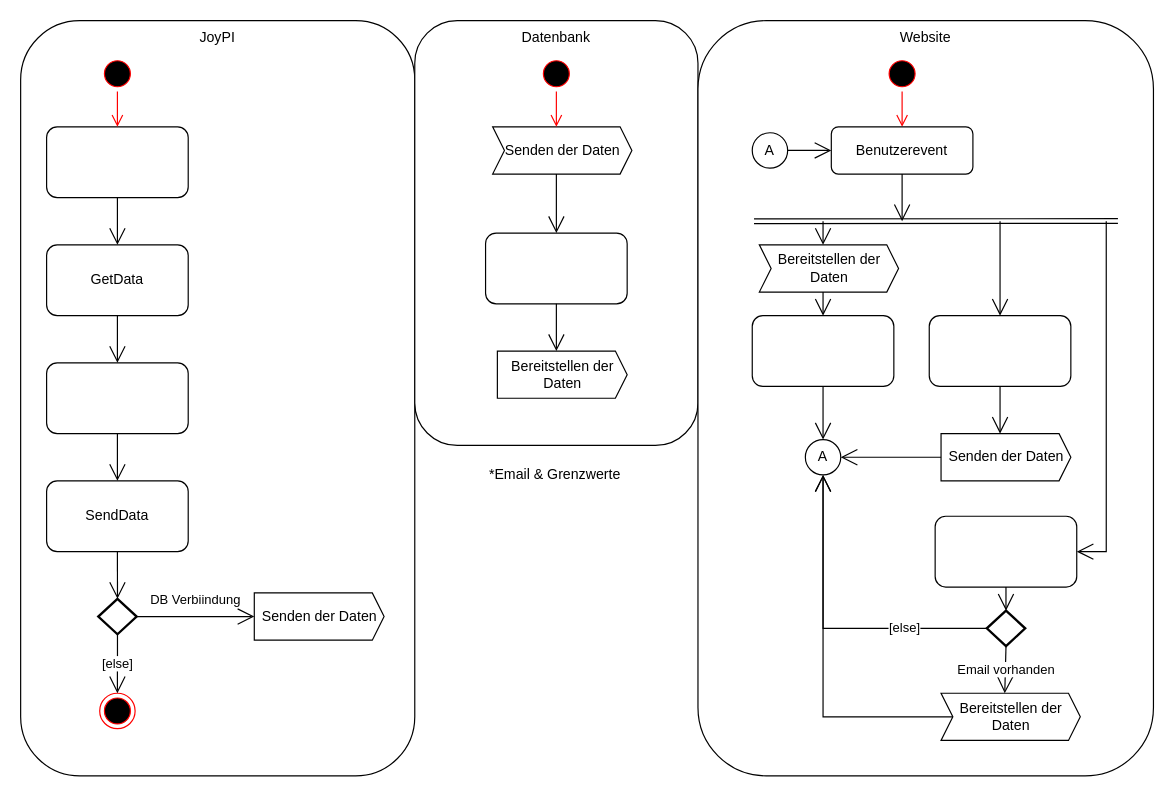
Image size: 1174x796. Some labels were removed from this diagram. Each missing label, with the box of its shape:
Cronjob wird aktiviert: (45, 126, 188, 198)
Darstellung der Daten: (751, 314, 894, 386)
Daten* Eingabe: (928, 314, 1071, 386)
Sendet Email an Benutzer: (934, 515, 1077, 587)
speichern der Daten: (484, 232, 627, 304)
Zwischenspeicher in CSV: (45, 362, 188, 434)
